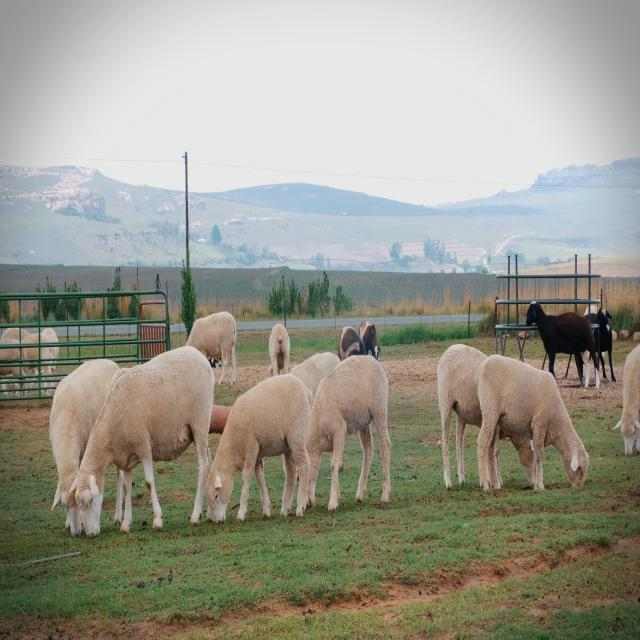sheep: (80, 341, 208, 542), (470, 329, 594, 510), (206, 366, 310, 524), (614, 332, 640, 459)
